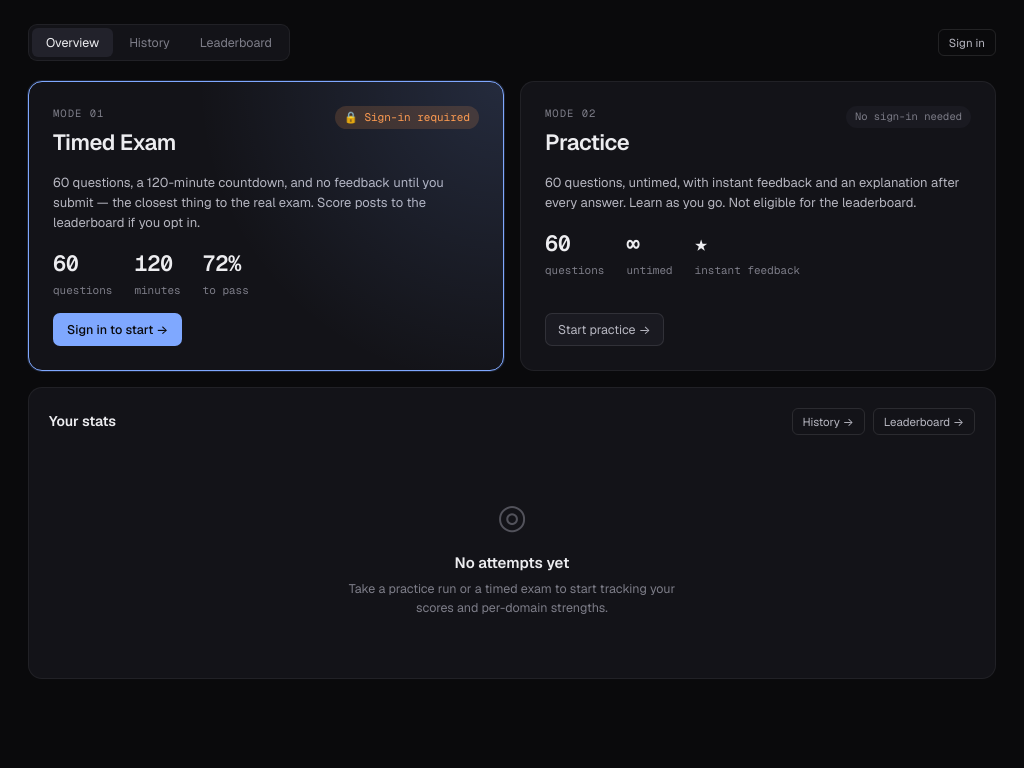
Test: PracticeExam › starts a practice attempt and shows the runner
Click the button "Start practice →" at [604, 329], box [545, 313, 664, 346]
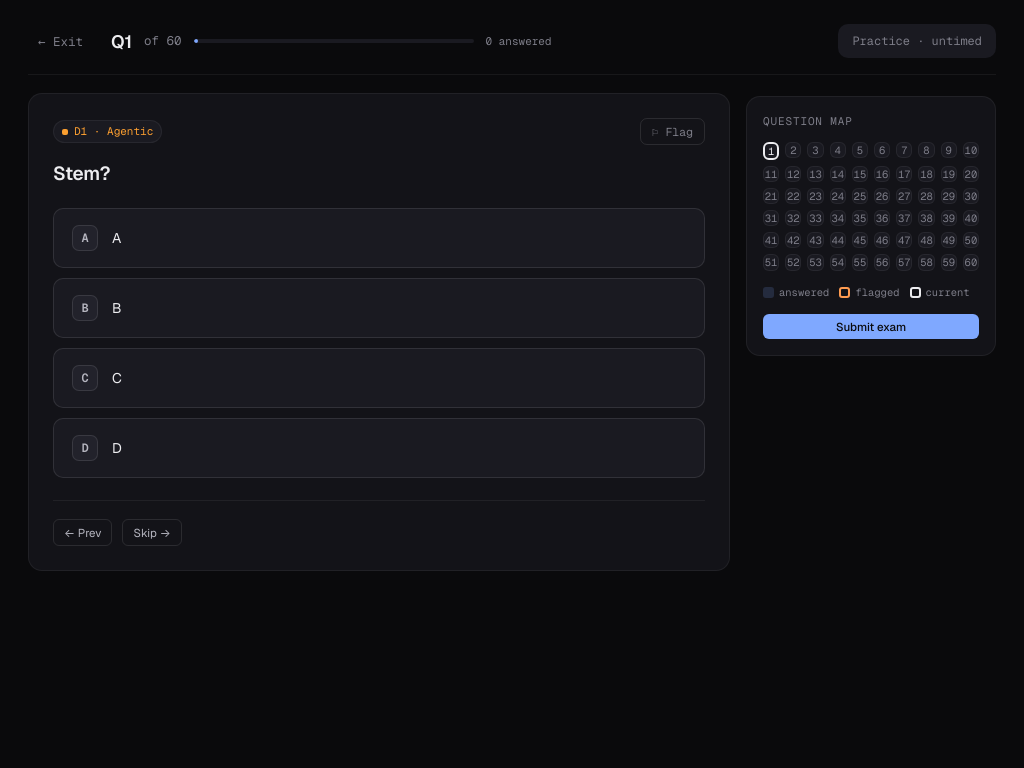
Check: the text "of 60" is shown, box [144, 32, 182, 50]
